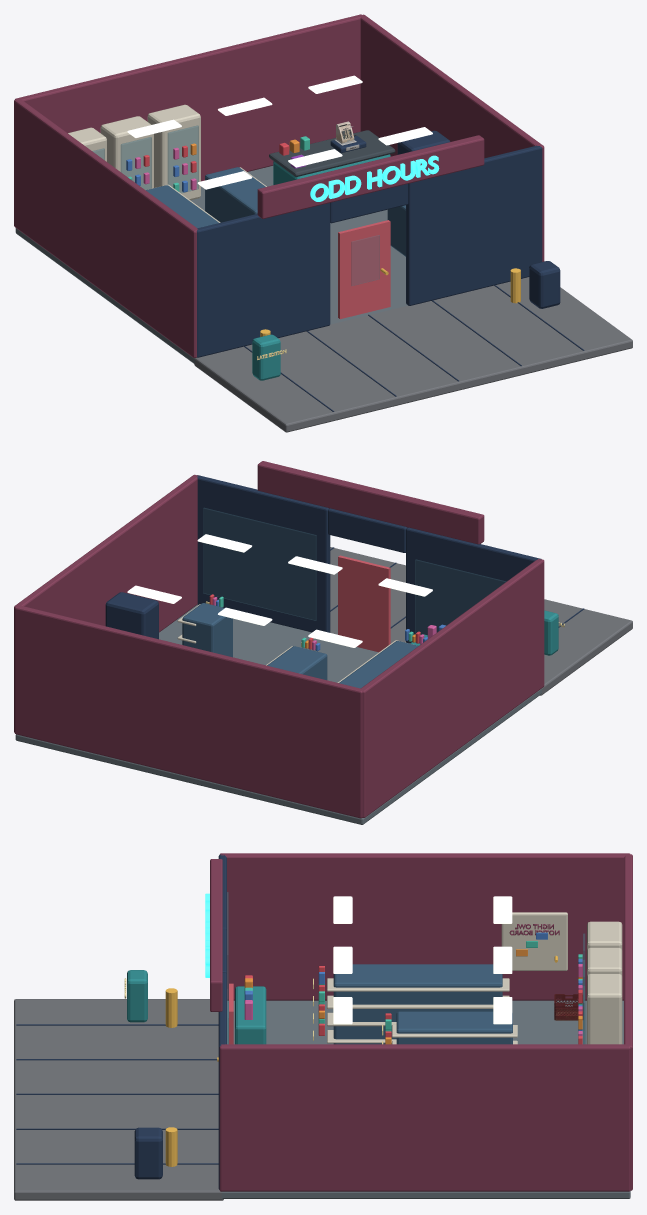
The model's file is location_odd_hours_v3.glb.
3 views of the same model, one above another, from view 1: azimuth 30°, elevation 25°; view 2: azimuth 150°, elevation 25°; view 3: azimuth 270°, elevation 25° (orthographic). The views are drawn at different scales.
Visible parts, largest first — view 1: OH_EXTERIOR_SIDEWALK, OH_BACK_WALL, OH_LEFT_WALL, OH_STOREFRONT_RIGHT, OH_STOREFRONT_LEFT, OH_RIGHT_WALL, OH_SIGN_BOARD, DOOR_ODD_HOURS_HERO, OH_INTERIOR_FLOOR, OH_FRIDGE_2, OH_FRIDGE_1, OH_SHELF_CENTER_FRAME (+13 smaller); view 2: OH_BACK_WALL, OH_LEFT_WALL, OH_STOREFRONT_RIGHT, OH_RIGHT_WALL, OH_WINDOW_RIGHT, OH_STOREFRONT_LEFT, OH_INTERIOR_FLOOR, OH_SIGN_BOARD, OH_EXTERIOR_SIDEWALK, DOOR_ODD_HOURS_HERO, OH_WINDOW_LEFT, OH_STOREFRONT_HEADER (+5 smaller); view 3: OH_RIGHT_WALL, OH_LEFT_WALL, OH_EXTERIOR_SIDEWALK, OH_INTERIOR_FLOOR, OH_SHELF_WEST_FRAME, OH_SHELF_CENTER_FRAME, OH_STORY_BOARD, OH_FRIDGE_2, OH_BACK_WALL, OH_SIGN_BOARD, OH_WINDOW_DISPLAY_PLINTH, OH_TRASH_BIN (+16 smaller).
Part boxes in pixels (left/top/right/bottom): OH_EXTERIOR_SIDEWALK: left=194, top=277, right=632, bottom=432; OH_BACK_WALL: left=15, top=14, right=362, bottom=181; OH_LEFT_WALL: left=14, top=99, right=197, bottom=357; OH_STOREFRONT_RIGHT: left=406, top=145, right=542, bottom=305; OH_STOREFRONT_LEFT: left=197, top=203, right=330, bottom=357; OH_RIGHT_WALL: left=360, top=14, right=544, bottom=261; OH_SIGN_BOARD: left=257, top=135, right=484, bottom=218; DOOR_ODD_HOURS_HERO: left=338, top=220, right=390, bottom=319; OH_INTERIOR_FLOOR: left=15, top=166, right=407, bottom=363; OH_FRIDGE_2: left=147, top=104, right=200, bottom=200; OH_FRIDGE_1: left=100, top=116, right=153, bottom=189; OH_SHELF_CENTER_FRAME: left=205, top=167, right=265, bottom=222; OH_BACK_WALL: left=14, top=605, right=362, bottom=818; OH_LEFT_WALL: left=360, top=559, right=544, bottom=817; OH_STOREFRONT_RIGHT: left=196, top=475, right=330, bottom=632; OH_RIGHT_WALL: left=14, top=474, right=198, bottom=732; OH_WINDOW_RIGHT: left=203, top=508, right=316, bottom=620; OH_STOREFRONT_LEFT: left=406, top=527, right=541, bottom=643; OH_INTERIOR_FLOOR: left=15, top=604, right=541, bottom=824; OH_SIGN_BOARD: left=257, top=461, right=484, bottom=544; OH_EXTERIOR_SIDEWALK: left=330, top=547, right=632, bottom=695; DOOR_ODD_HOURS_HERO: left=338, top=555, right=390, bottom=652; OH_WINDOW_LEFT: left=415, top=559, right=505, bottom=634; OH_STOREFRONT_HEADER: left=328, top=508, right=407, bottom=552; OH_RIGHT_WALL: left=219, top=1044, right=630, bottom=1191; OH_LEFT_WALL: left=219, top=853, right=629, bottom=1000; OH_EXTERIOR_SIDEWALK: left=14, top=999, right=223, bottom=1200; OH_INTERIOR_FLOOR: left=221, top=1000, right=630, bottom=1198; OH_SHELF_WEST_FRAME: left=333, top=964, right=502, bottom=1044; OH_SHELF_CENTER_FRAME: left=396, top=1011, right=512, bottom=1044; OH_STORY_BOARD: left=501, top=912, right=567, bottom=970; OH_FRIDGE_2: left=587, top=974, right=622, bottom=1044; OH_BACK_WALL: left=624, top=854, right=632, bottom=1190; OH_SIGN_BOARD: left=210, top=859, right=222, bottom=1011; OH_WINDOW_DISPLAY_PLINTH: left=235, top=986, right=266, bottom=1044; OH_TRASH_BIN: left=134, top=1127, right=162, bottom=1179.
Bounding box in the file's own units: 10.1 × 4.46 × 13.55.
Materials: 23 (3 with a texture image).
